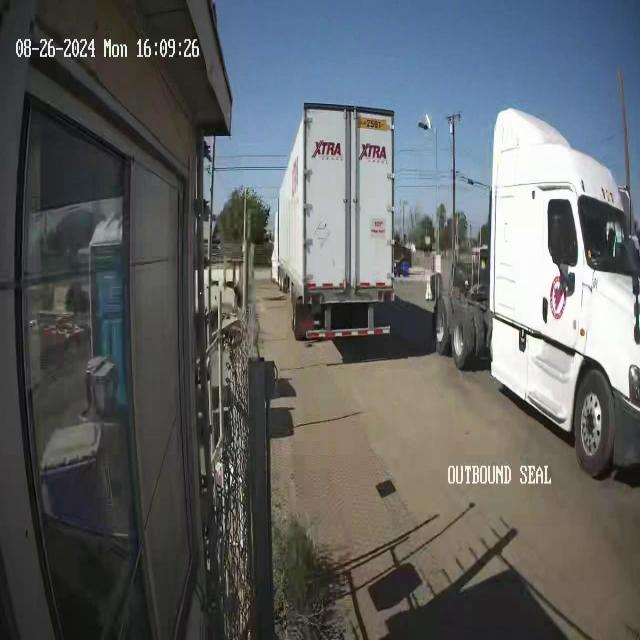BOBTAIL: (433, 106, 639, 474)
TRUCK_CONTAINER: (269, 100, 396, 340)
